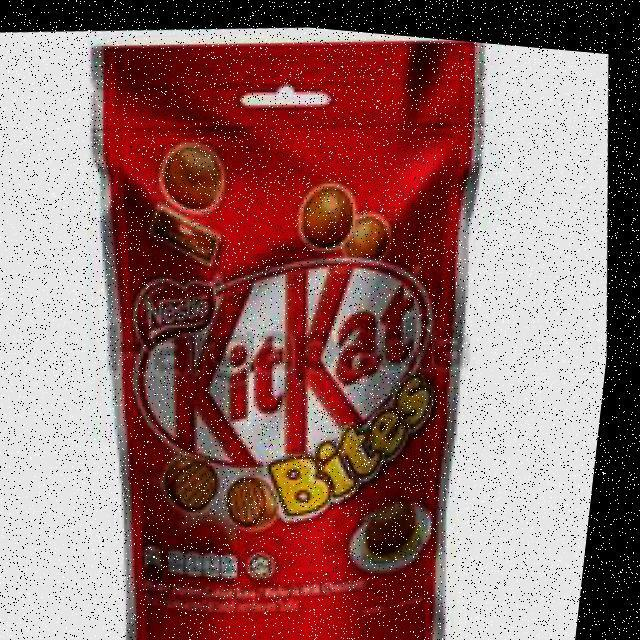kitkat_chocolate: (85, 62, 513, 628)
